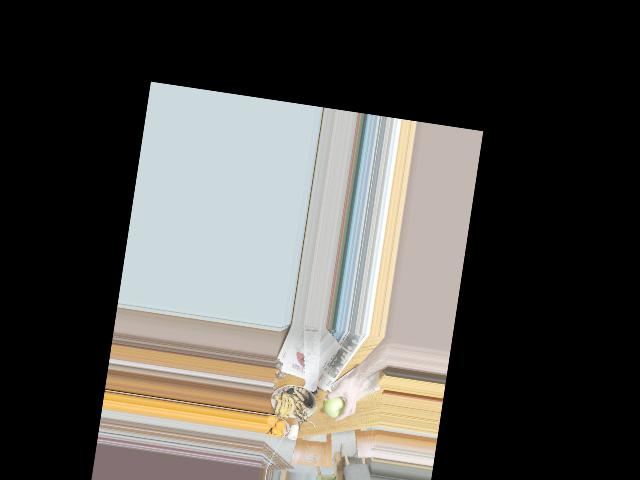apple: (323, 393, 346, 420)
